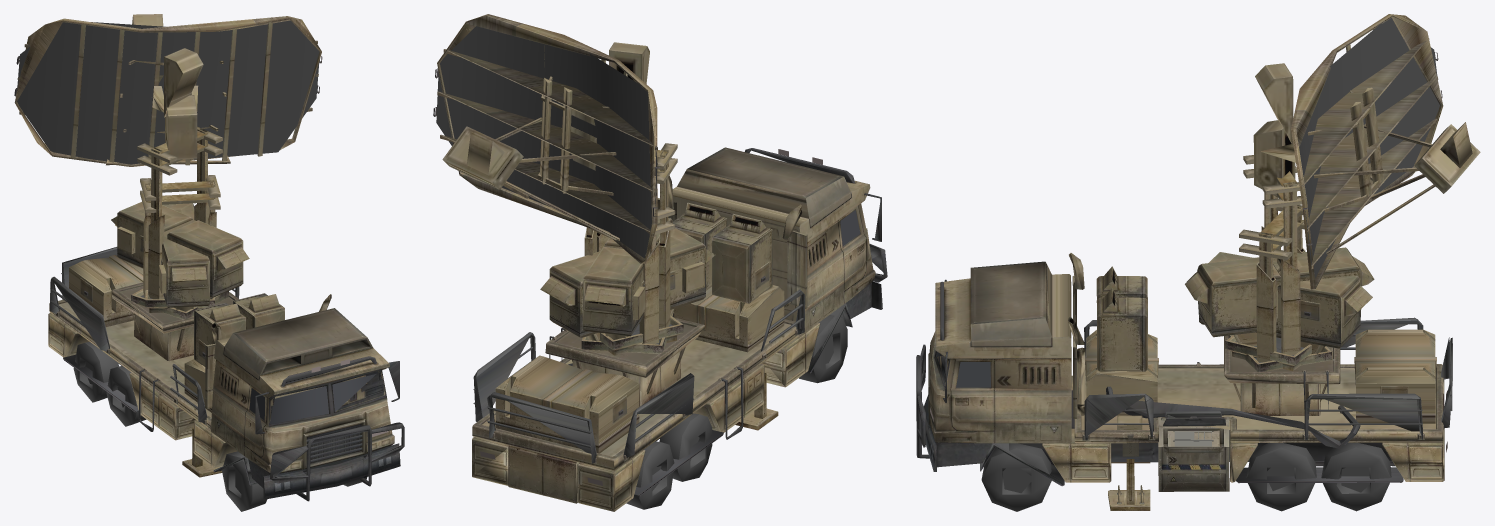
Rendered from radar-truck.lod0.glb.
The picture shows the model from 3 angles, left to right: view 1: azimuth 30°, elevation 25°; view 2: azimuth 150°, elevation 25°; view 3: azimuth 270°, elevation 25°; orthographic projection. The views are drawn at different scales.
Parts seen in each view (by area): view 1: Object_7, Object_2, Object_4; view 2: Object_7, Object_2, Object_4; view 3: Object_7, Object_4, Object_2.
Part boxes in pixels (x1,y1,x2,y2): Object_7: (14,14,331,485); Object_2: (17,20,388,511); Object_4: (58,286,404,501); Object_7: (433,14,852,511); Object_2: (436,26,860,509); Object_4: (482,147,887,456); Object_7: (980,14,1480,510); Object_4: (916,261,1436,471); Object_2: (930,18,1447,511).
Size of the model in its own units: 5.76 by 8.28 by 9.94.
Materials: 3 (2 with a texture image).
